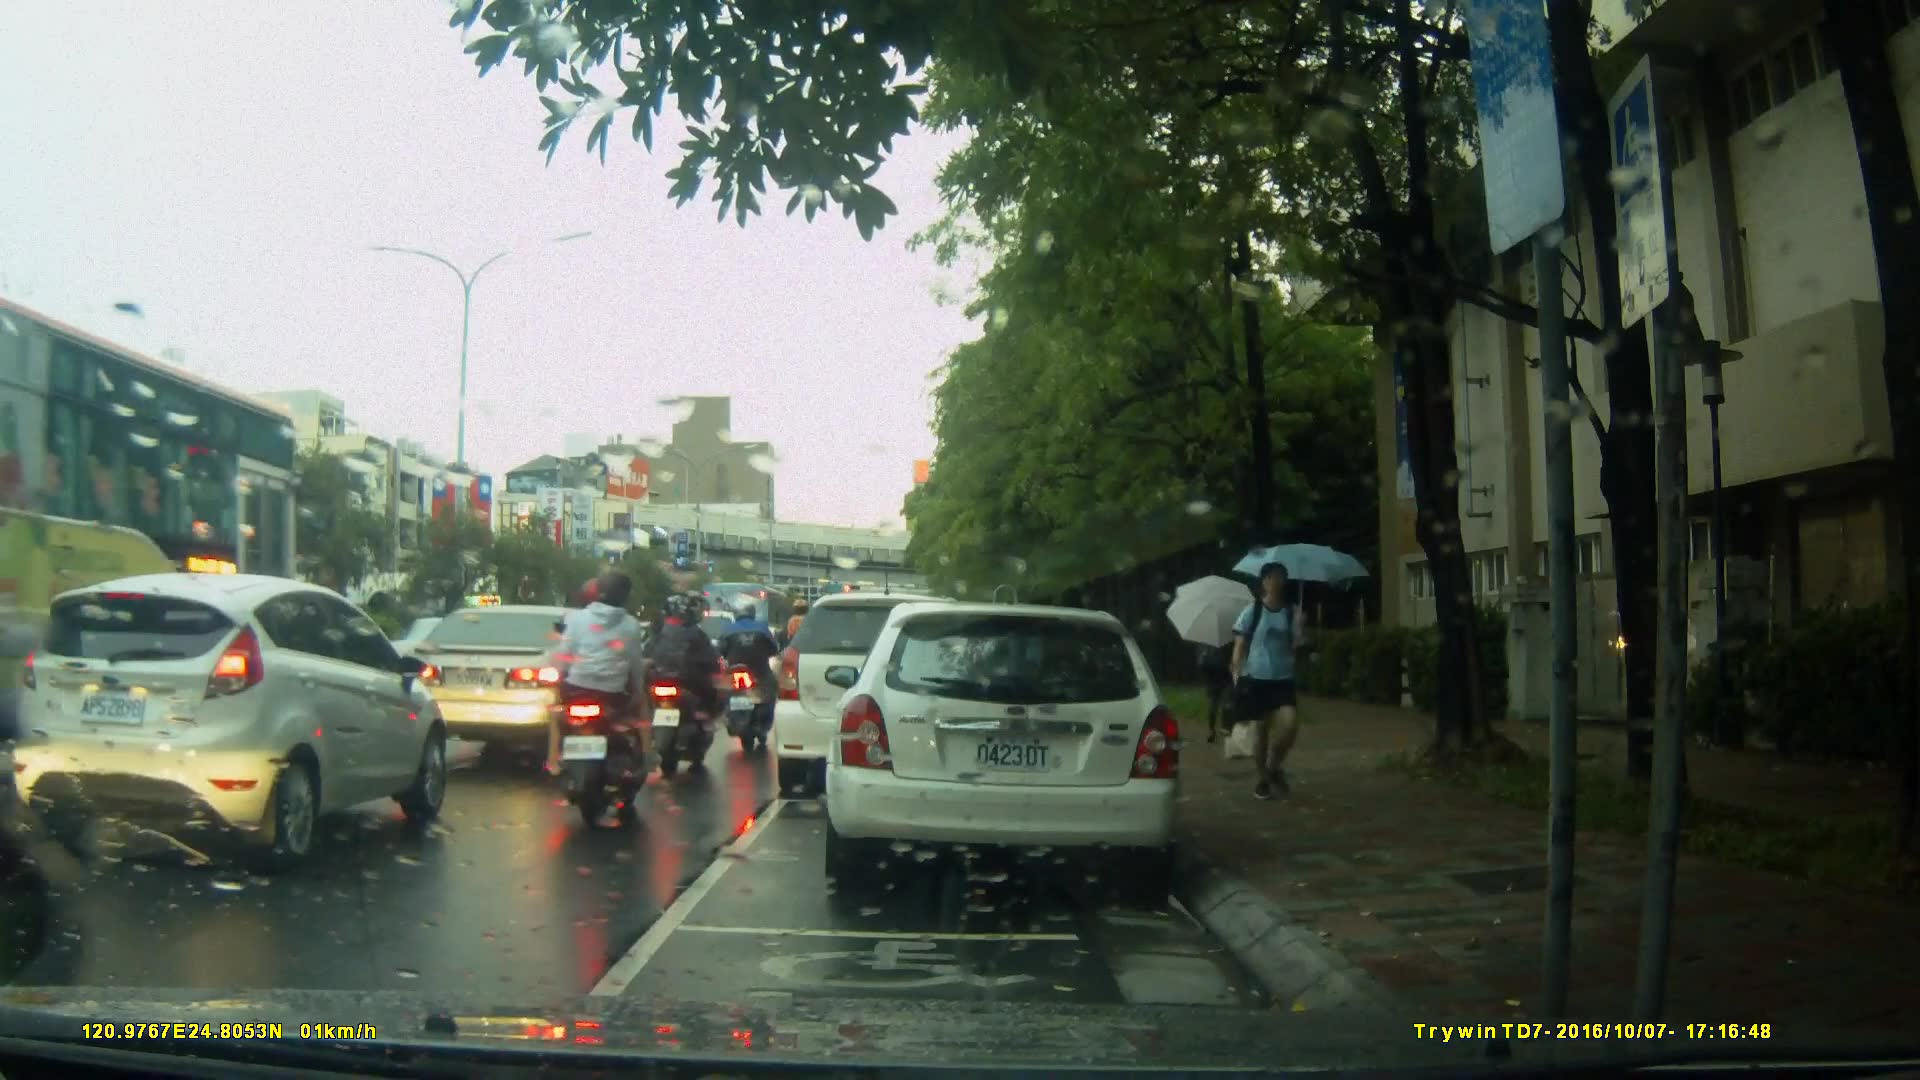pedestrian: (1222, 555, 1316, 812), (1209, 597, 1259, 742)
rider: (544, 562, 661, 842), (649, 591, 717, 782), (720, 593, 779, 747), (785, 597, 822, 735)
vehicle: (1, 292, 306, 765), (8, 569, 451, 872), (835, 594, 1194, 898), (776, 590, 1026, 784), (383, 603, 644, 767), (602, 619, 728, 717), (702, 581, 810, 672)
